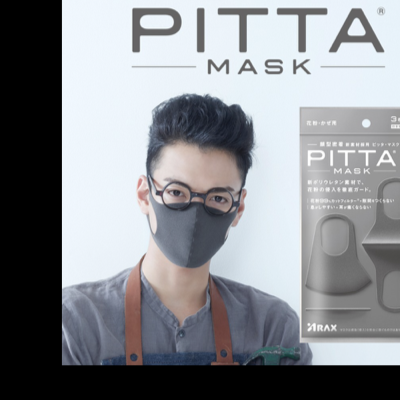with_mask: (150, 175, 241, 268)
